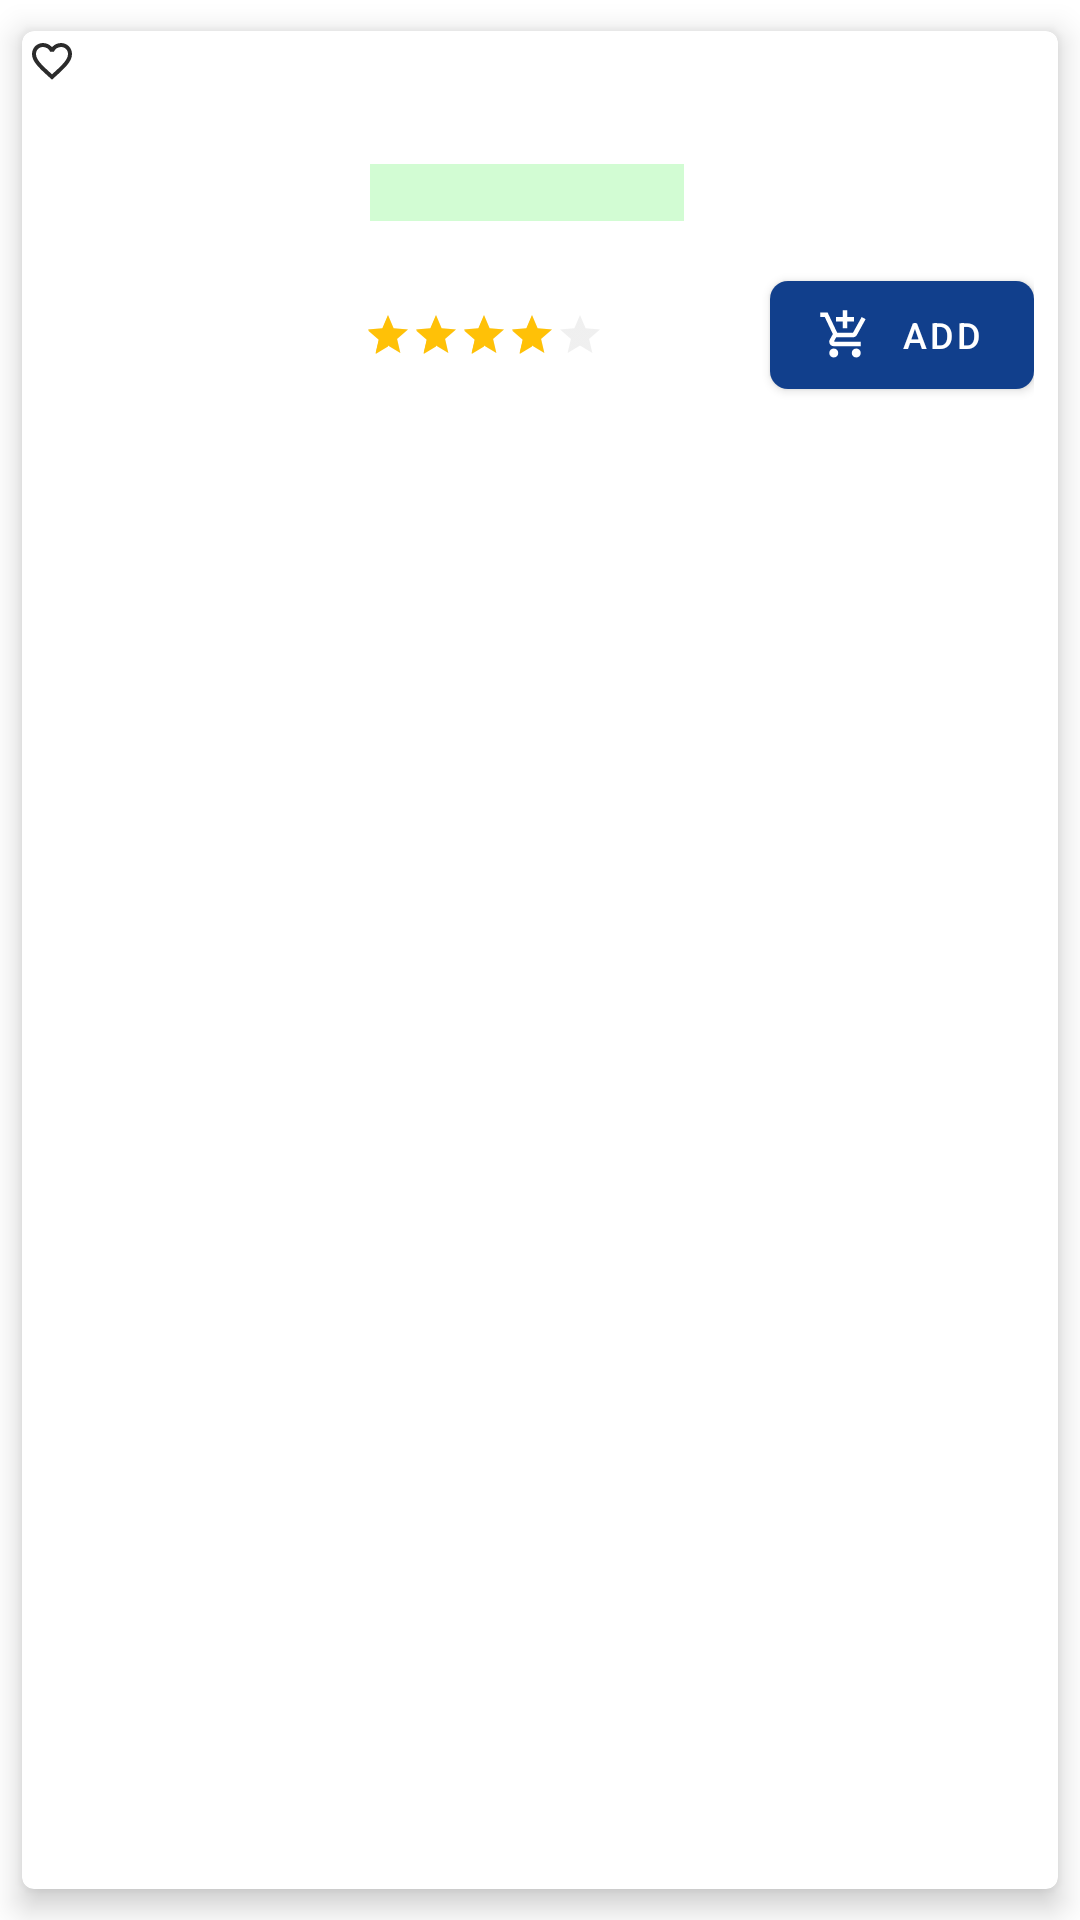

Locate icon controls on the screen. Image size 1080w x 1920h, boxes as (x1, y1, x2, y2).
favorite border: (29, 31, 72, 80)
